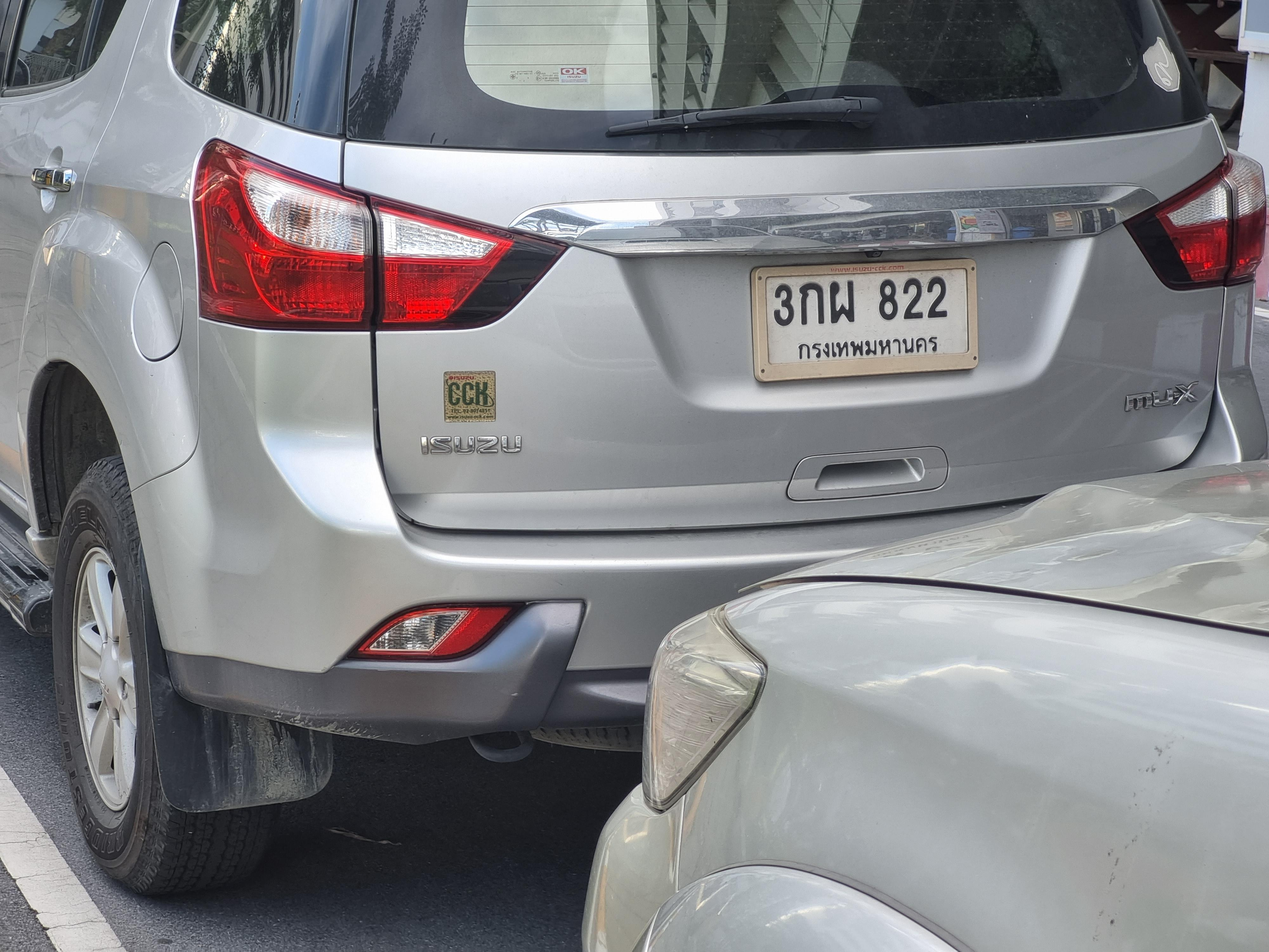license-plate: (751, 248, 986, 382)
